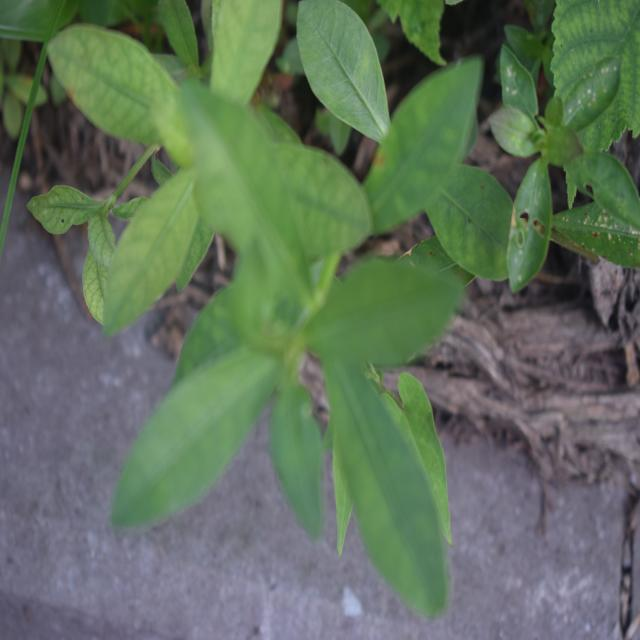Alligatorweed: (48, 6, 361, 291), (312, 19, 608, 269)
